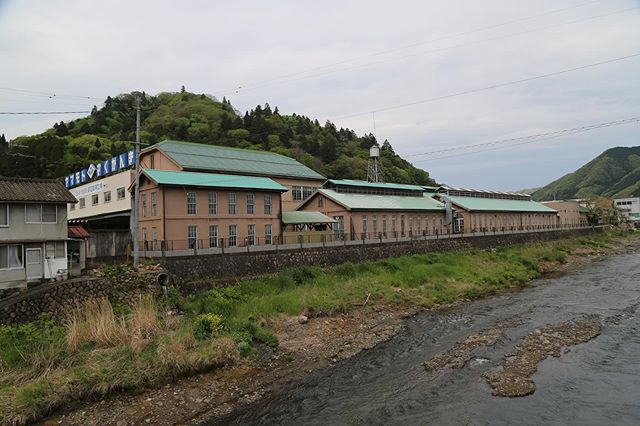building: (131, 150, 565, 262)
mountain: (16, 65, 438, 191)
sky: (10, 1, 640, 131)
street: (193, 251, 640, 426)
